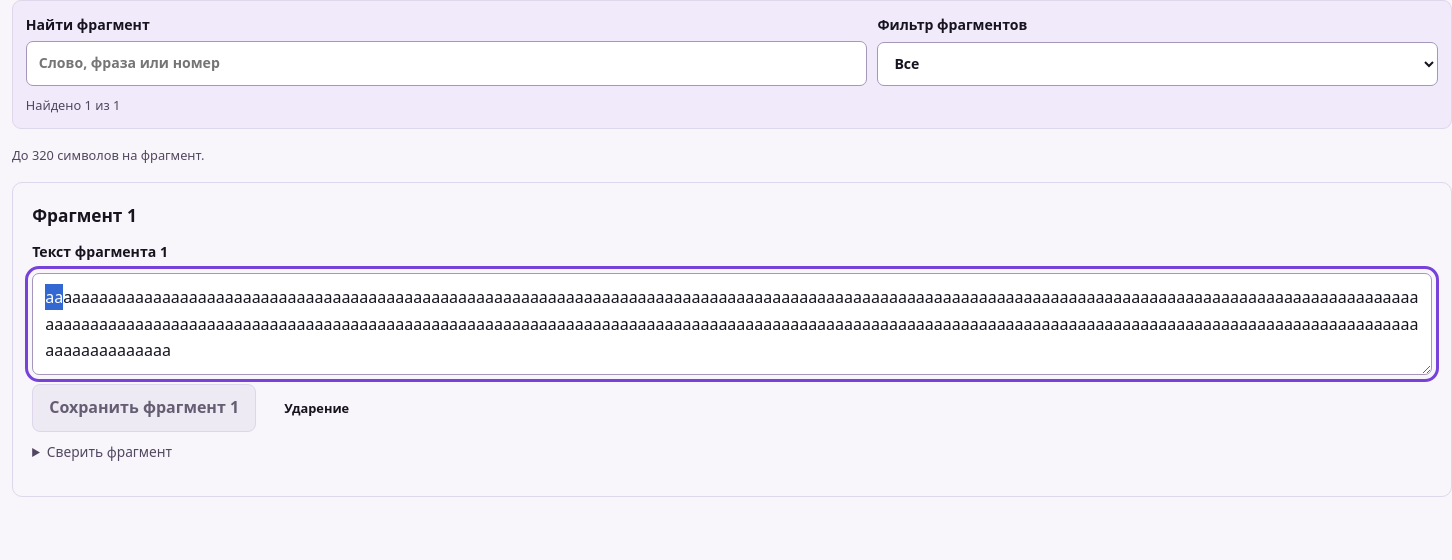
Test: keeps the text intact when stress is requested for a range or a full fragment
This screenshot has width=1452, height=560.
Click the button with aria-label "Ударение · фрагмент 1".
click(317, 408)  # box 267,387 -> 366,429
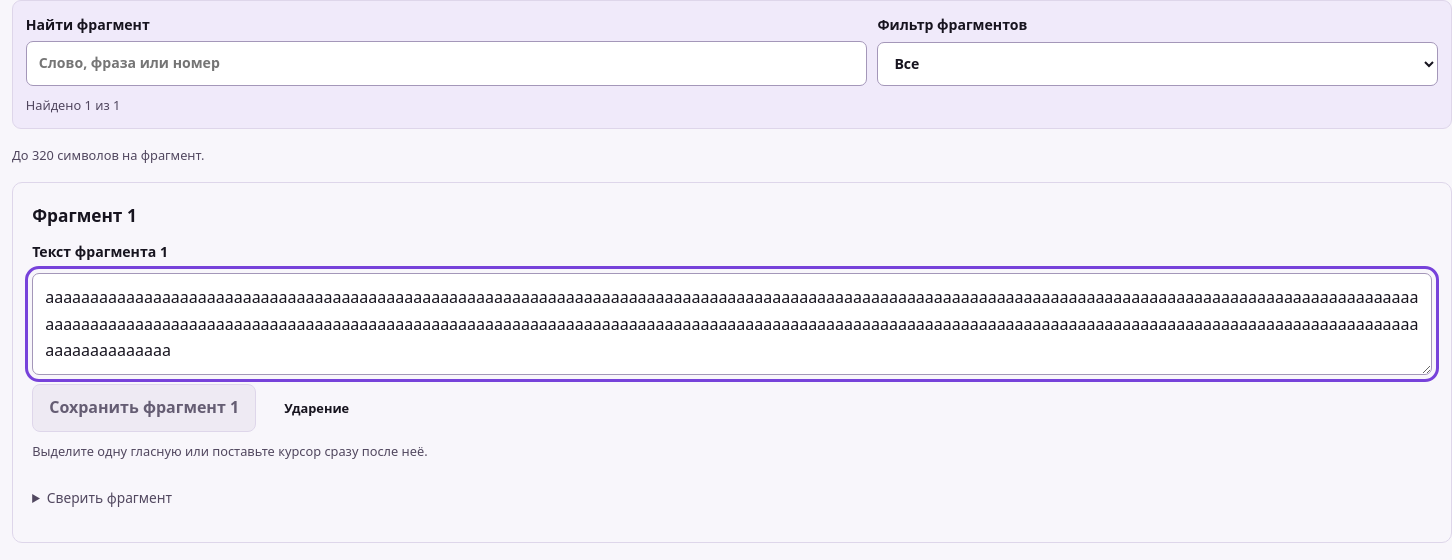
Expected: the text "Выделите одну гласную или поставьте курсор сразу после неё." is shown, 32,441 -> 428,462
Click the button with aria-label "Ударение · фрагмент 1".
click(317, 408)  # box 267,387 -> 366,429
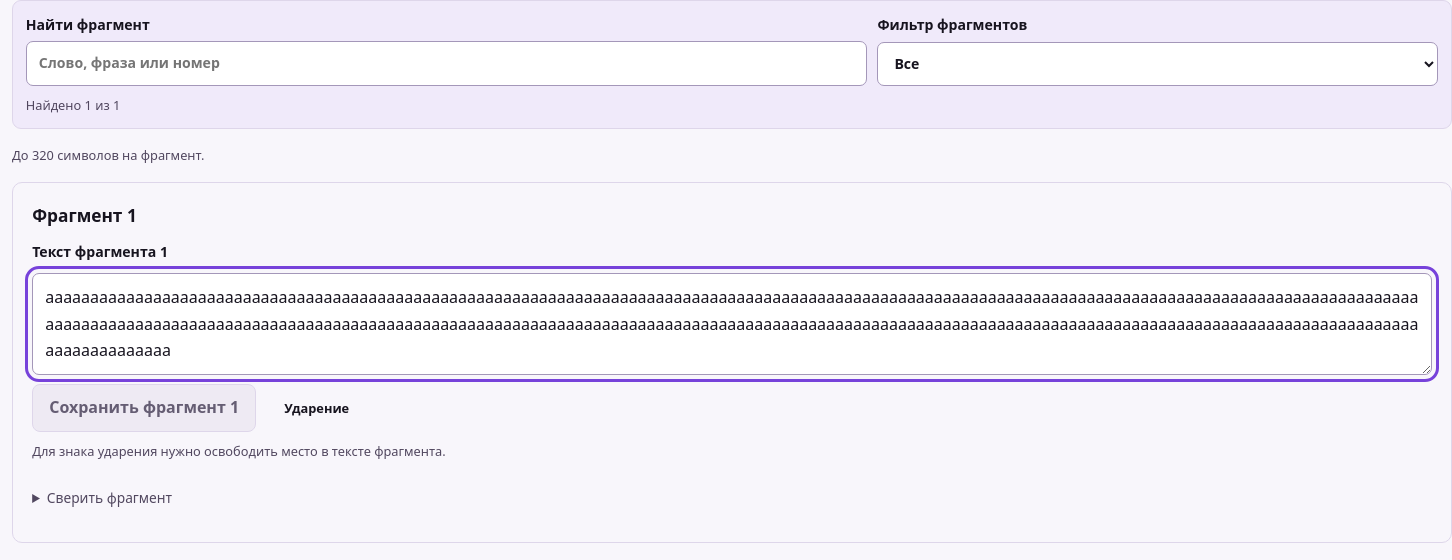
Expected: the text "Для знака ударения нужно освободить место в тексте фрагмента." is shown, 32,441 -> 446,462
